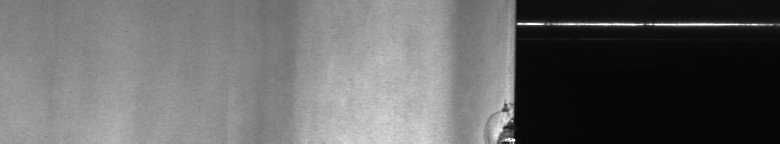hb: (477, 100, 504, 136)
